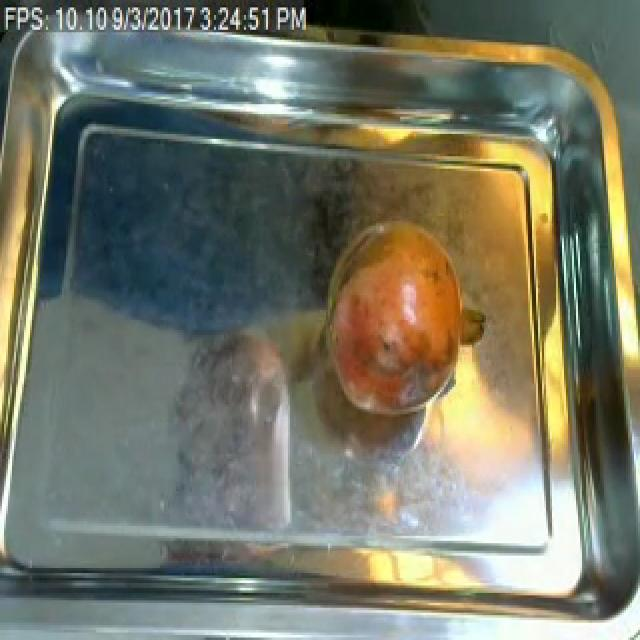fruit: (316, 206, 496, 432)
